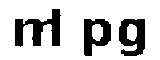g: (116, 15, 148, 60)
l: (51, 6, 69, 49)
m: (11, 16, 55, 50)
p: (79, 16, 113, 57)
